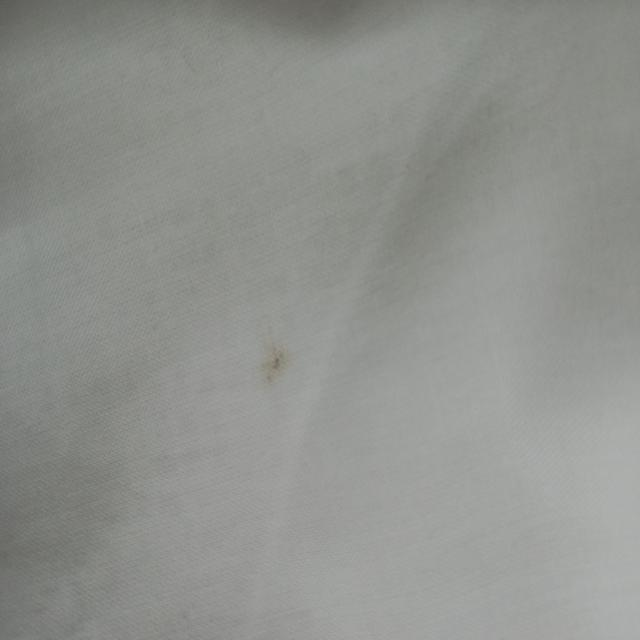stain: (253, 334, 299, 398)
